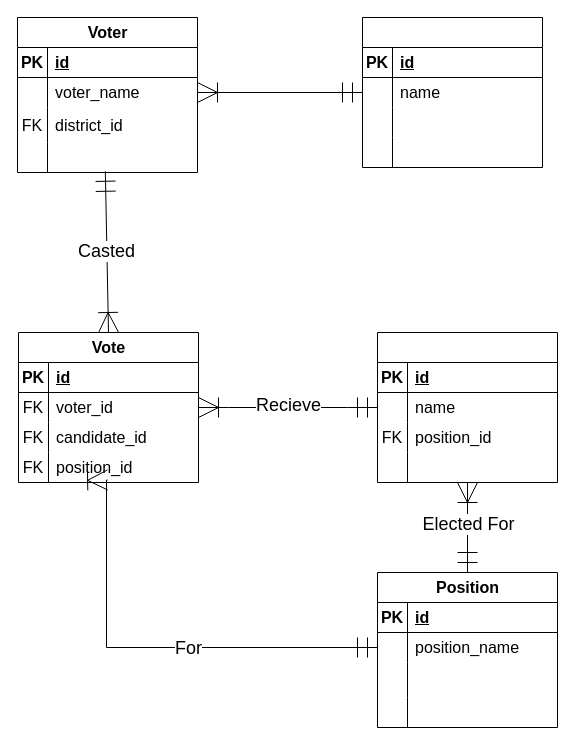
This 575x745 diagram has some shape labels left out. The box of each missing label's shape, as (x1, y1, x2, y2) in pixels:
Candidate: (376, 332, 558, 482)
District: (362, 16, 542, 168)
